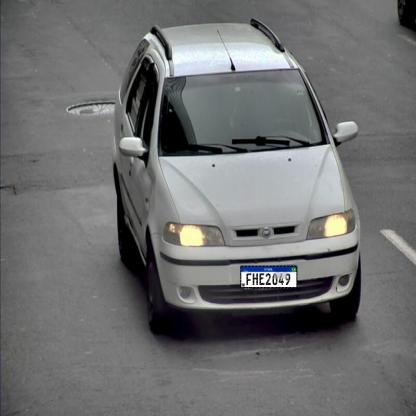PlacaM: (240, 266, 298, 288)
